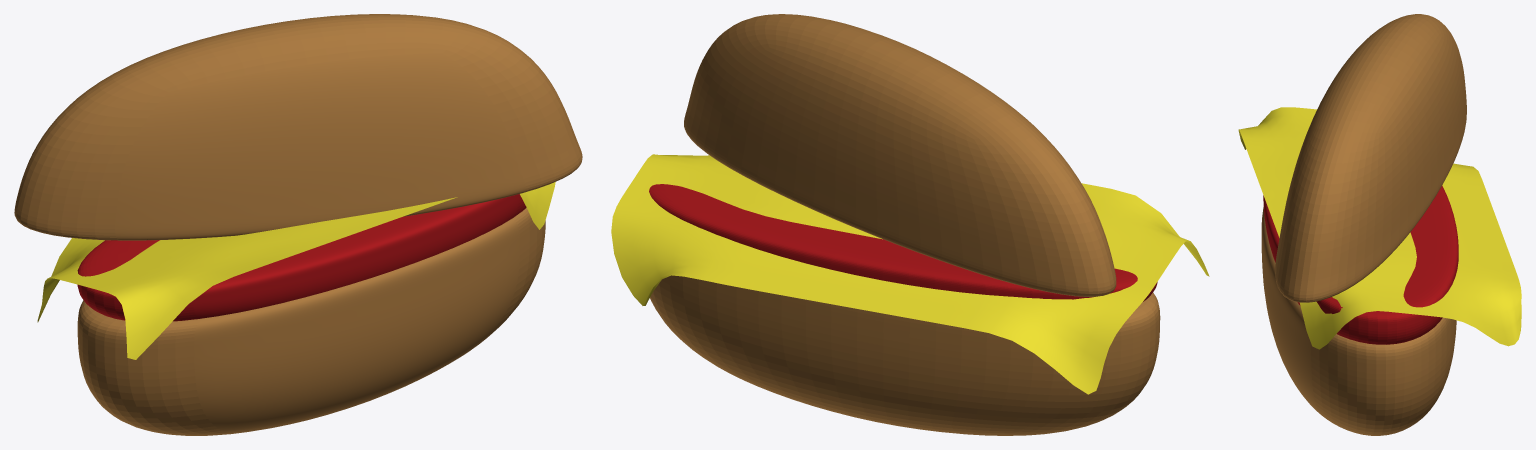
Rendered from hamburger.glb.
3 renders of one model, left to right at view 1: azimuth 30°, elevation 25°; view 2: azimuth 150°, elevation 25°; view 3: azimuth 270°, elevation 25°, orthographic. The views are drawn at different scales.
Visible parts, largest first — view 1: Cube.002, Cube, Cube.001, Plane; view 2: Cube.002, Cube, Plane, Cube.001; view 3: Cube.002, Plane, Cube, Cube.001.
Boxes of the visible parts, x1,y1,x2,y2 form: Cube.002: (14,14,582,240); Cube: (77,208,545,435); Cube.001: (77,194,526,321); Plane: (37,182,555,359); Cube.002: (684,14,1116,296); Cube: (650,275,1160,435); Plane: (611,154,1209,394); Cube.001: (649,184,1157,301); Cube.002: (1275,14,1466,302); Plane: (1238,107,1521,349); Cube: (1261,207,1456,435); Cube.001: (1263,185,1458,344).
Bounding box in the file's own units: 6.64 × 4.76 × 3.71.
